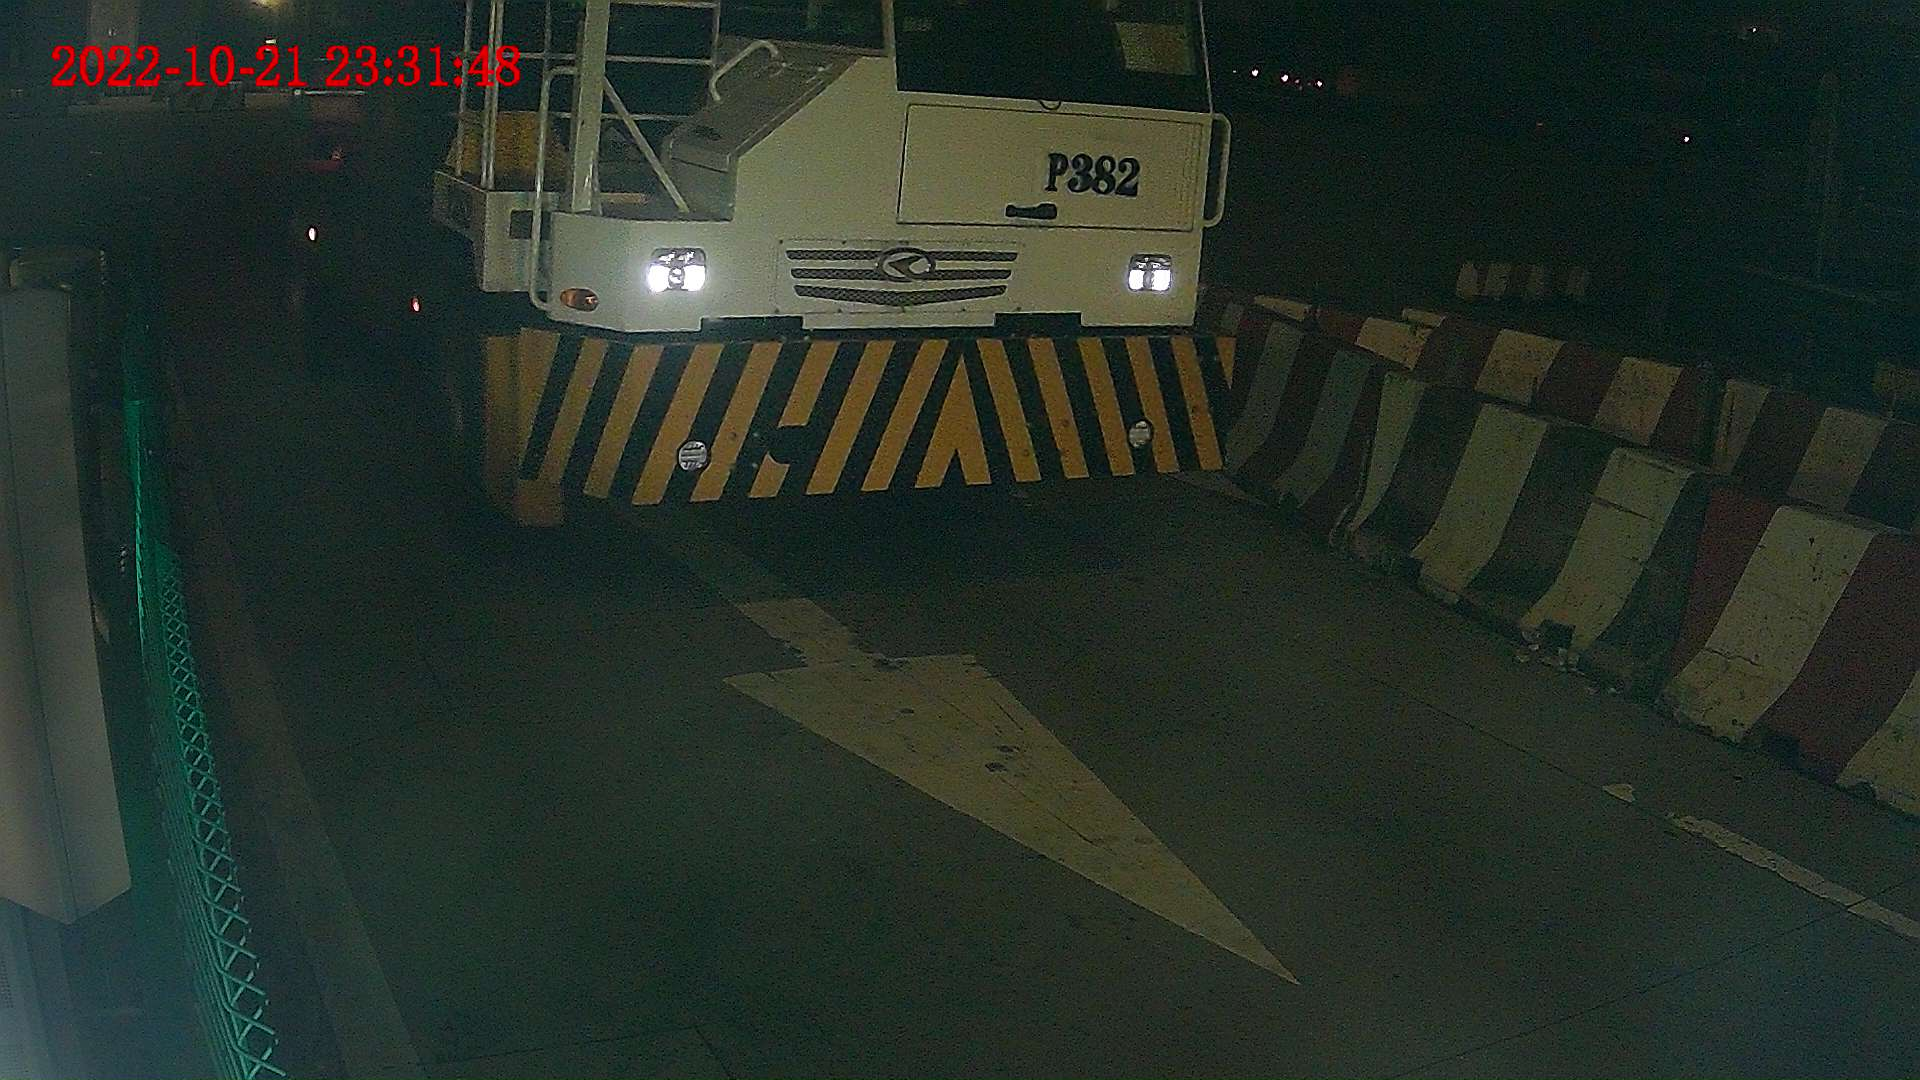head: (403, 1, 1231, 503)
